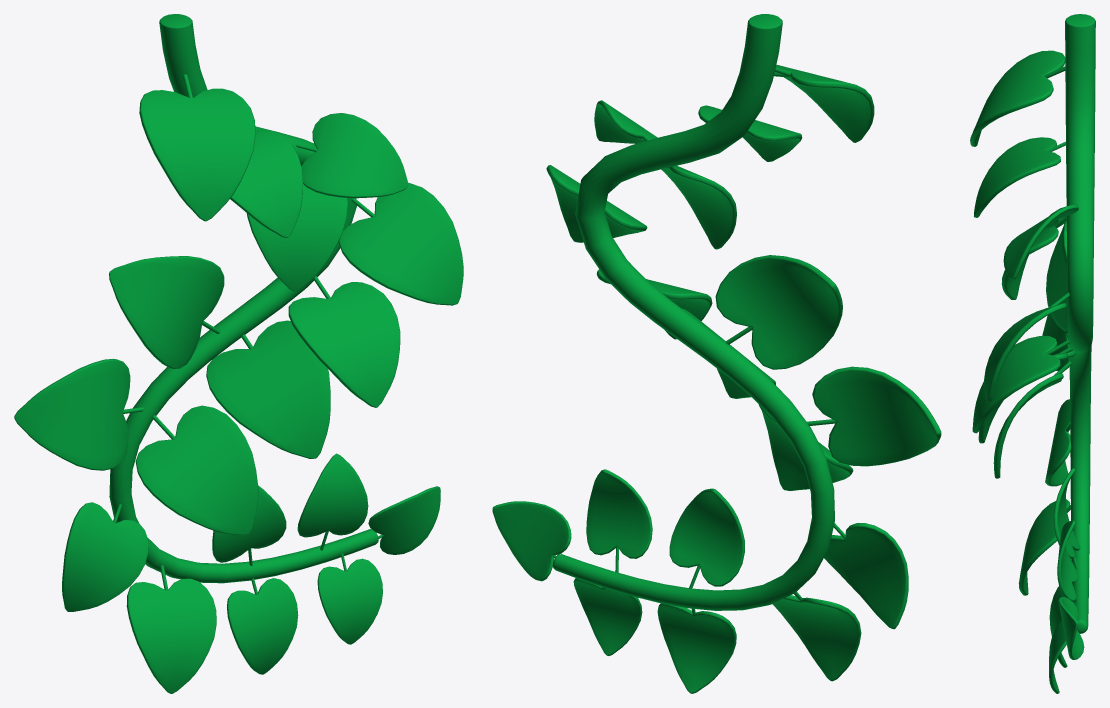
Rendered from Town_13_Ivy_1.glb.
3 views of the same model, side by side, from view 1: azimuth 30°, elevation 25°; view 2: azimuth 150°, elevation 25°; view 3: azimuth 270°, elevation 25° (orthographic). The views are drawn at different scales.
Visible parts, largest first — view 1: Town_13_Ivy_1; view 2: Town_13_Ivy_1; view 3: Town_13_Ivy_1.
Boxes of the visible parts, <box> form: Town_13_Ivy_1: <box>14,14,463,693</box>; Town_13_Ivy_1: <box>492,14,941,693</box>; Town_13_Ivy_1: <box>970,14,1095,693</box>.
Bounding box in the file's own units: 1.46 × 2.19 × 0.4071.
Materials: 1 (1 with a texture image).
